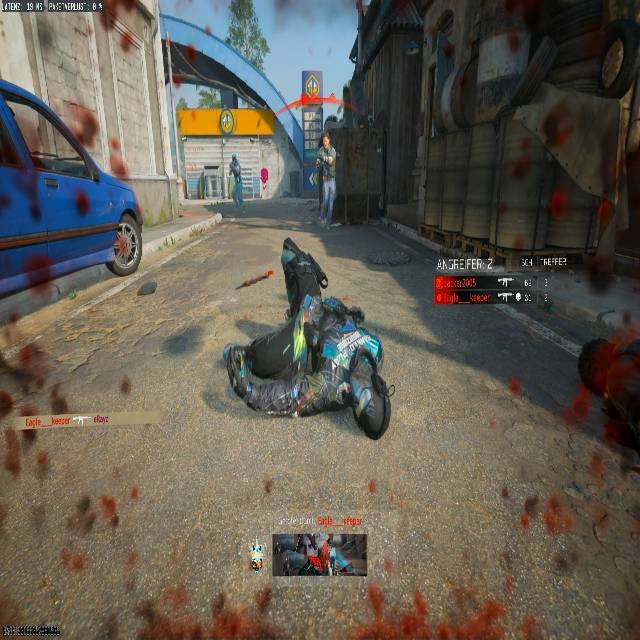head: (321, 134, 330, 148), (231, 153, 237, 161)
player: (222, 236, 391, 443), (313, 133, 337, 208), (227, 152, 245, 214)
